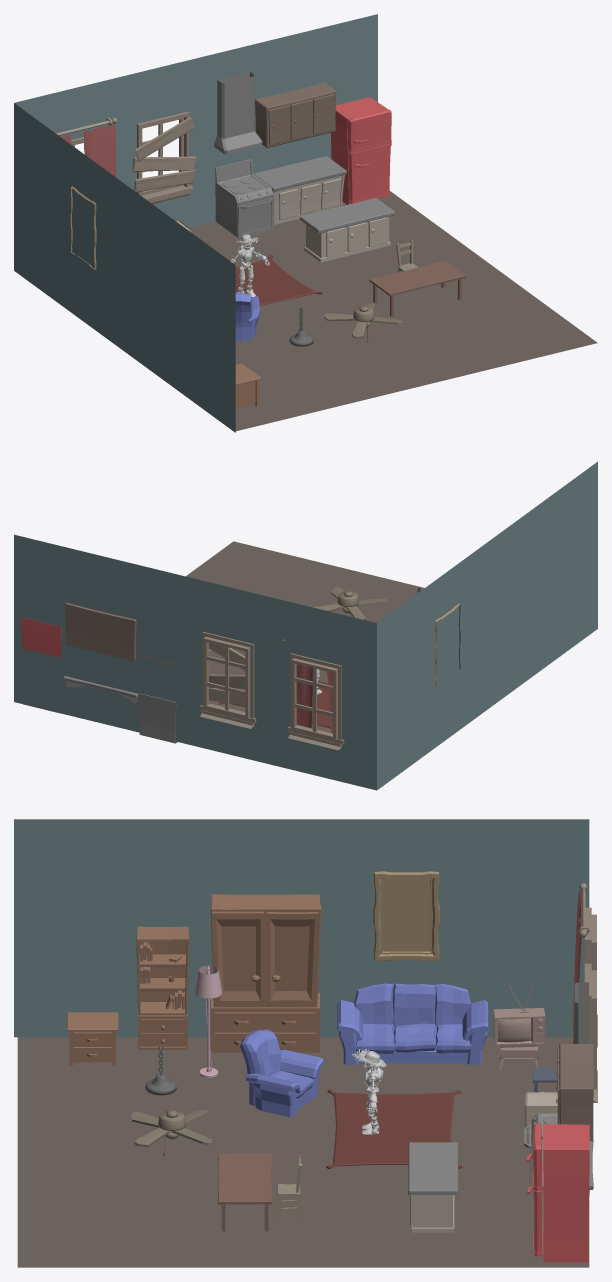
3 renders of one model, top to bottom at view 1: azimuth 30°, elevation 25°; view 2: azimuth 150°, elevation 25°; view 3: azimuth 270°, elevation 25°, orthographic. The views are drawn at different scales.
Visible parts, largest first — view 1: TestWalls, TestFloor, KitchenOven, Fridge, KitchenIsland, WindowBoarded, KitchenCabinet, KitchenSink, Table01, Carpet, WindowCurtains, SofaChair_M (+3 smaller); view 2: TestWalls, TestFloor, WindowBoarded, WindowCurtains, KitchenCabinet, KitchenOven, Fridge, CeilingFan, KitchenSink, Carpet; view 3: TestFloor, TestWalls, CupboardLarge, Sofa, Fridge, Carpet, BookCase01, Painting01, SofaChair_M, KitchenIsland, KitchenCabinet, Table01 (+11 smaller).
Part boxes in pixels (x1=…): TestWalls: x1=14, y1=14, x2=377, y2=432; TestFloor: x1=190, y1=191, x2=597, y2=431; KitchenOven: x1=214, y1=72, x2=274, y2=237; Fridge: x1=330, y1=97, x2=391, y2=204; KitchenIsland: x1=300, y1=198, x2=395, y2=262; WindowBoarded: x1=132, y1=111, x2=196, y2=204; KitchenCabinet: x1=255, y1=82, x2=336, y2=148; KitchenSink: x1=253, y1=156, x2=346, y2=225; Table01: x1=369, y1=260, x2=465, y2=316; Carpet: x1=235, y1=254, x2=322, y2=305; WindowCurtains: x1=56, y1=117, x2=117, y2=177; SofaChair_M: x1=235, y1=292, x2=260, y2=341; TestWalls: x1=14, y1=461, x2=597, y2=790; TestFloor: x1=186, y1=541, x2=424, y2=732; WindowBoarded: x1=200, y1=632, x2=256, y2=728; WindowCurtains: x1=282, y1=639, x2=344, y2=750; KitchenCabinet: x1=65, y1=602, x2=136, y2=661; KitchenOven: x1=138, y1=653, x2=177, y2=743; Fridge: x1=21, y1=617, x2=61, y2=713; CeilingFan: x1=313, y1=587, x2=387, y2=619; KitchenSink: x1=63, y1=676, x2=138, y2=703; Carpet: x1=219, y1=680, x2=330, y2=728; TestFloor: x1=17, y1=1037, x2=589, y2=1267; TestWalls: x1=14, y1=819, x2=589, y2=1037; CupboardLarge: x1=210, y1=894, x2=321, y2=1052; Sofa: x1=337, y1=983, x2=488, y2=1064; Fridge: x1=526, y1=1123, x2=589, y2=1262; Carpet: x1=326, y1=1089, x2=462, y2=1168; BookCase01: x1=136, y1=926, x2=189, y2=1049; Painting01: x1=373, y1=871, x2=439, y2=961; SofaChair_M: x1=240, y1=1029, x2=324, y2=1117; KitchenIsland: x1=408, y1=1142, x2=457, y2=1232; KitchenCabinet: x1=556, y1=1044, x2=593, y2=1140; Table01: x1=218, y1=1153, x2=271, y2=1231.
Bounding box in the file's own units: 13.56 × 6.06 × 14.45.
